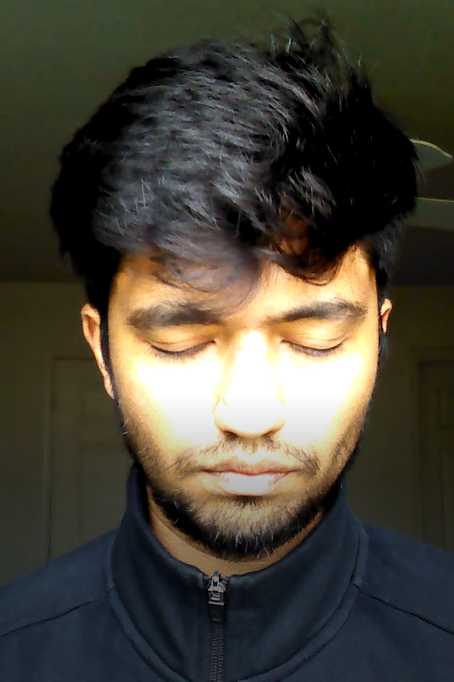Sleeping: (122, 283, 374, 373)
